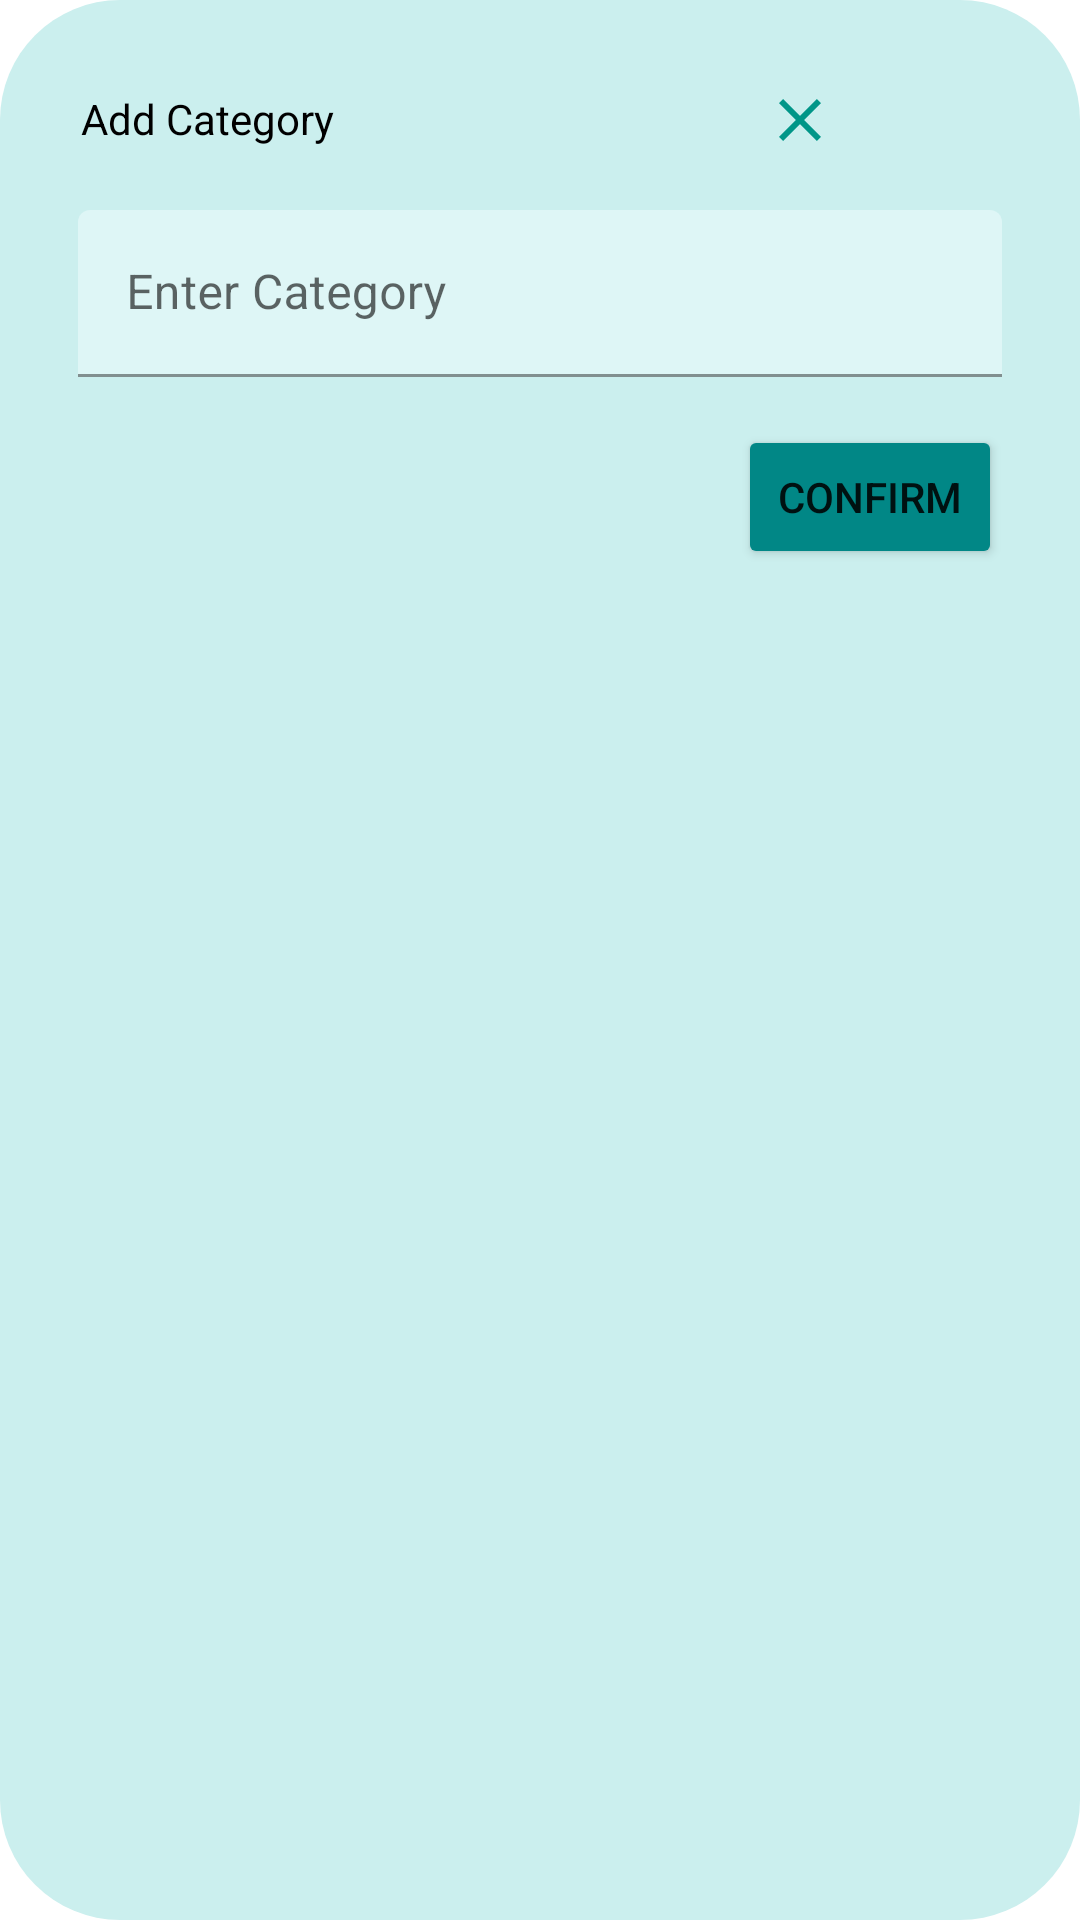

Where icons sit on this 1080 x 1920 app screen, as (x1, y1, x2, y2):
clear: (779, 99, 821, 141)
